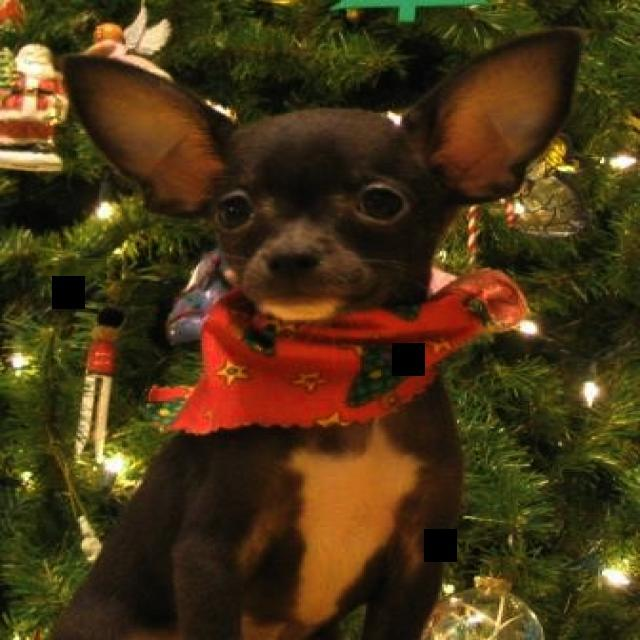puppy-dog: (48, 24, 587, 640)
